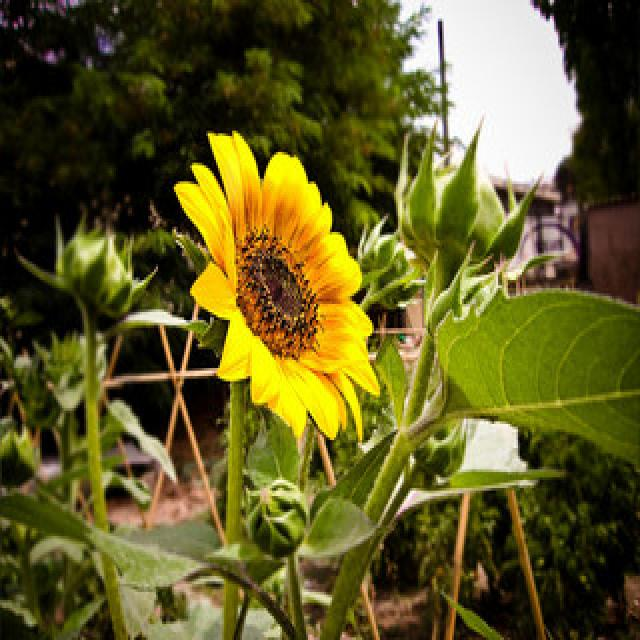sunflower: (169, 122, 383, 442)
